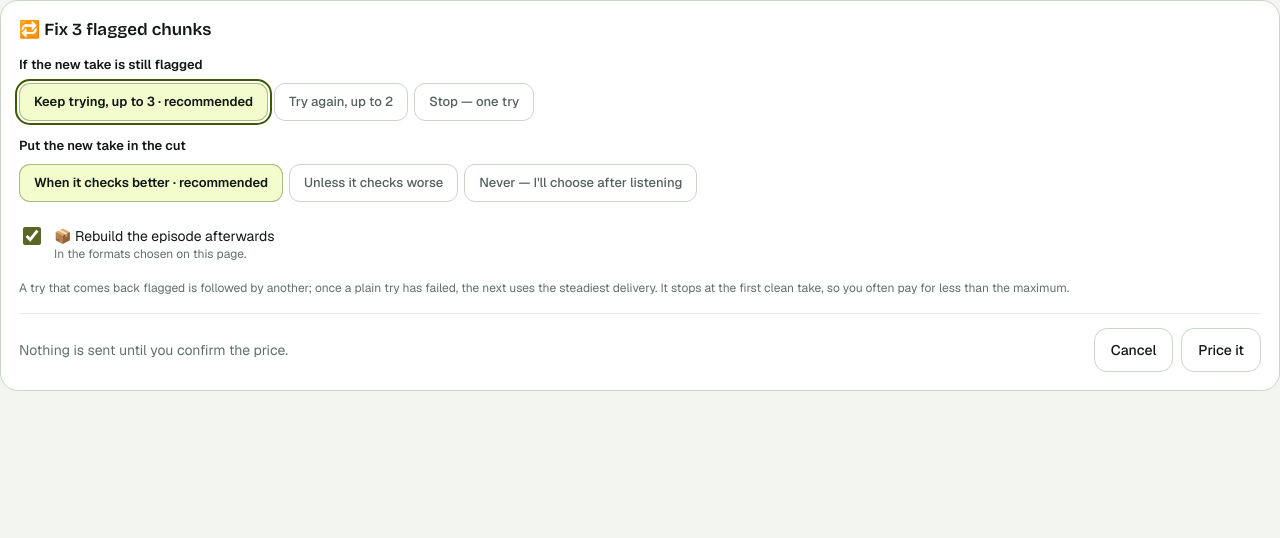
it: the fix-all panel never spends past its button › skips a blocked chunk and still fixes the others
What coordinates should you click on to do the following:
click the button "Price it"
I would click on:
 (1221, 350)
Its box is [1181, 328, 1261, 372].
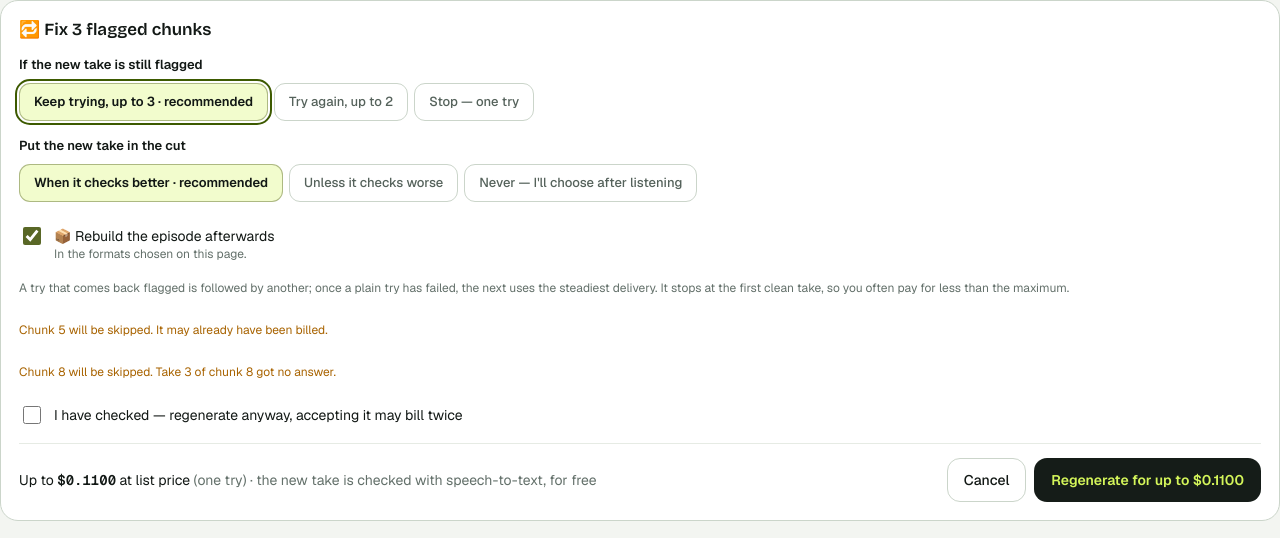
Expected: the button "Regenerate for up to $0.1100" is enabled, [1034, 458, 1261, 502]
Result: the text "Chunk 5 will be skipped" is shown at [19, 322, 156, 338]
Result: the text "Chunk 8 will be skipped" is shown at [19, 364, 156, 380]
